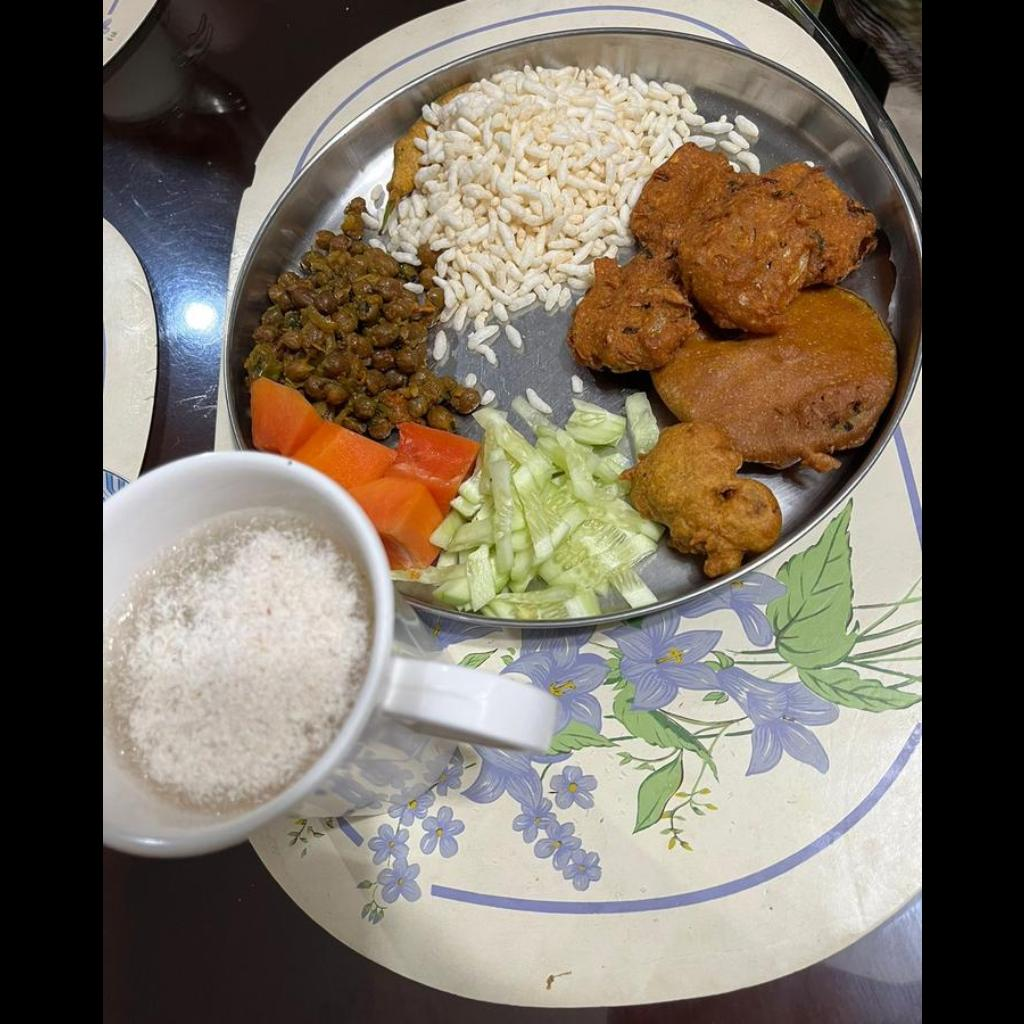beguni: (632, 288, 891, 560), (385, 118, 423, 215)
carrot: (251, 378, 474, 567)
chola: (253, 205, 471, 407)
cucumber: (411, 389, 663, 620)
juice: (102, 515, 371, 815)
peyaju: (568, 140, 877, 386)
puffed-rice: (384, 65, 755, 347)
